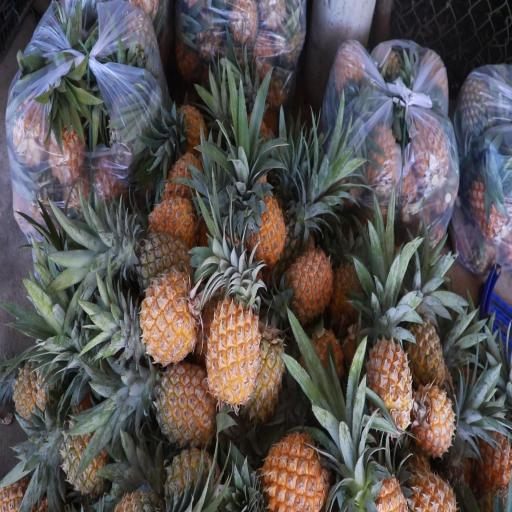------------------------------: (57, 410, 110, 496), (138, 229, 196, 298), (163, 442, 220, 512)
Pineapple - v8 v1: (204, 275, 263, 407), (133, 263, 200, 367), (146, 354, 218, 446), (258, 425, 330, 512), (366, 309, 415, 434), (278, 242, 336, 326), (239, 181, 289, 267), (409, 380, 459, 460), (137, 191, 200, 252), (407, 312, 448, 389), (402, 461, 458, 512)
